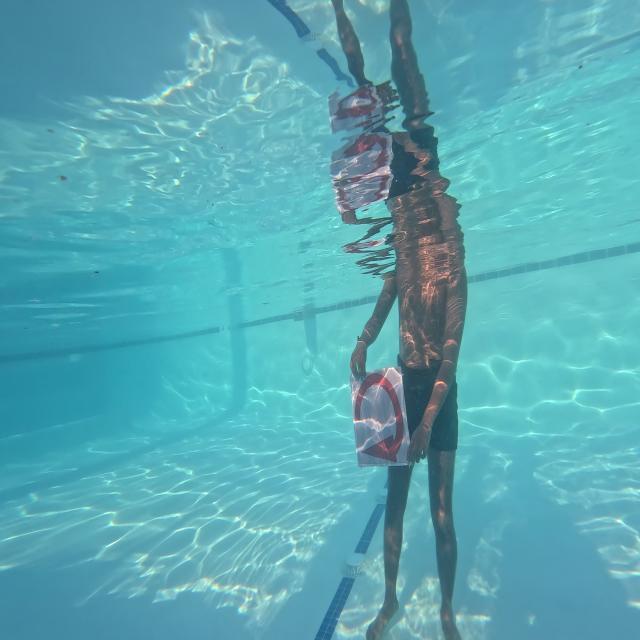red_side: (352, 371, 407, 468)
